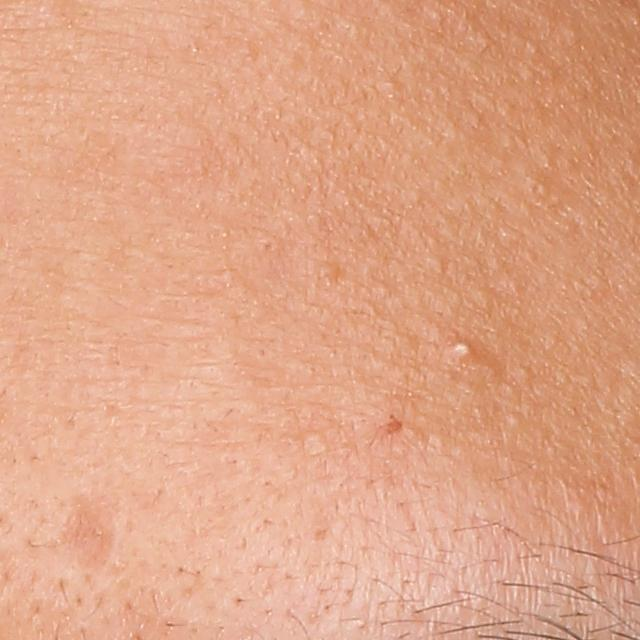atrophic_scar: (35, 493, 113, 582)
comedo: (314, 259, 339, 280), (258, 236, 281, 255)
pustule: (448, 339, 480, 362)
